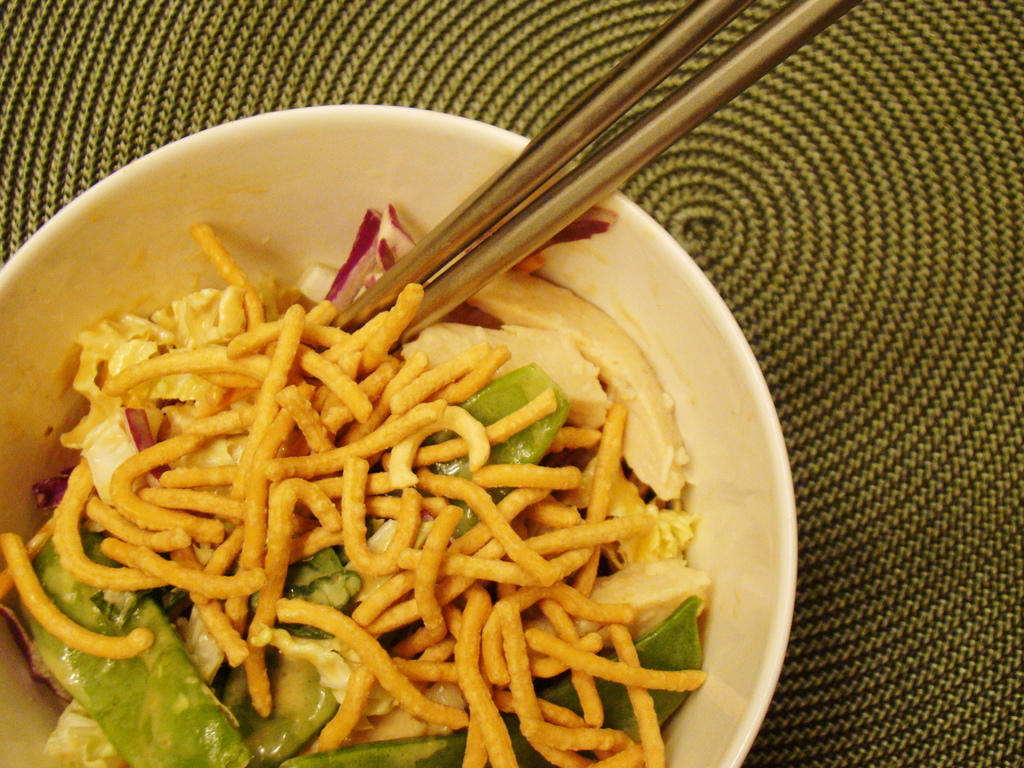French fries: (47, 268, 687, 741)
